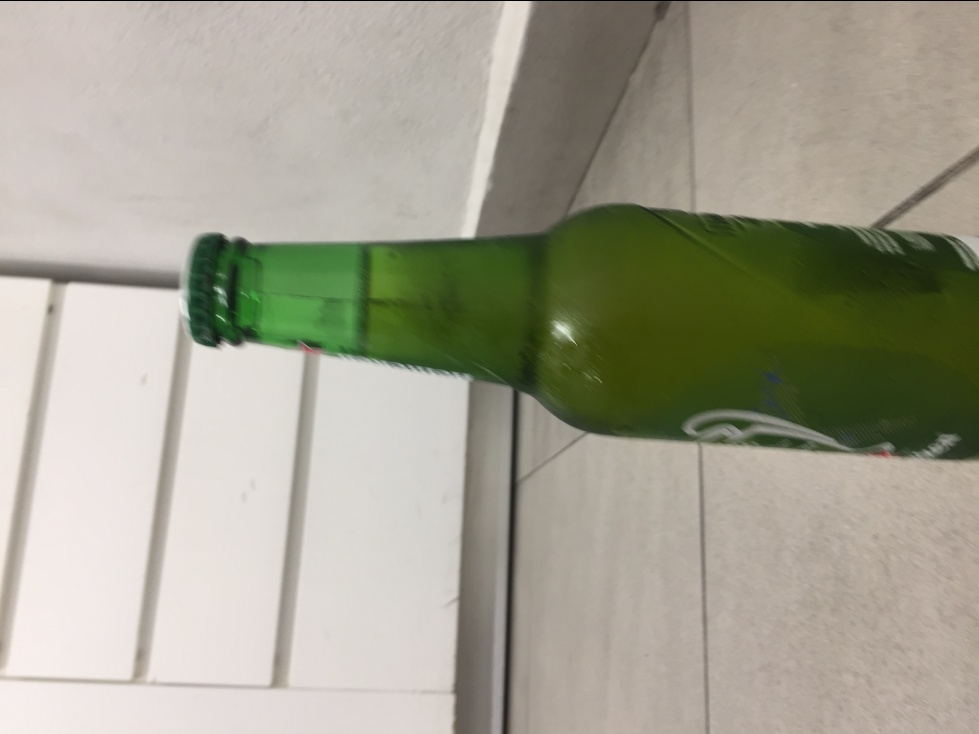heineken: (177, 200, 978, 464)
